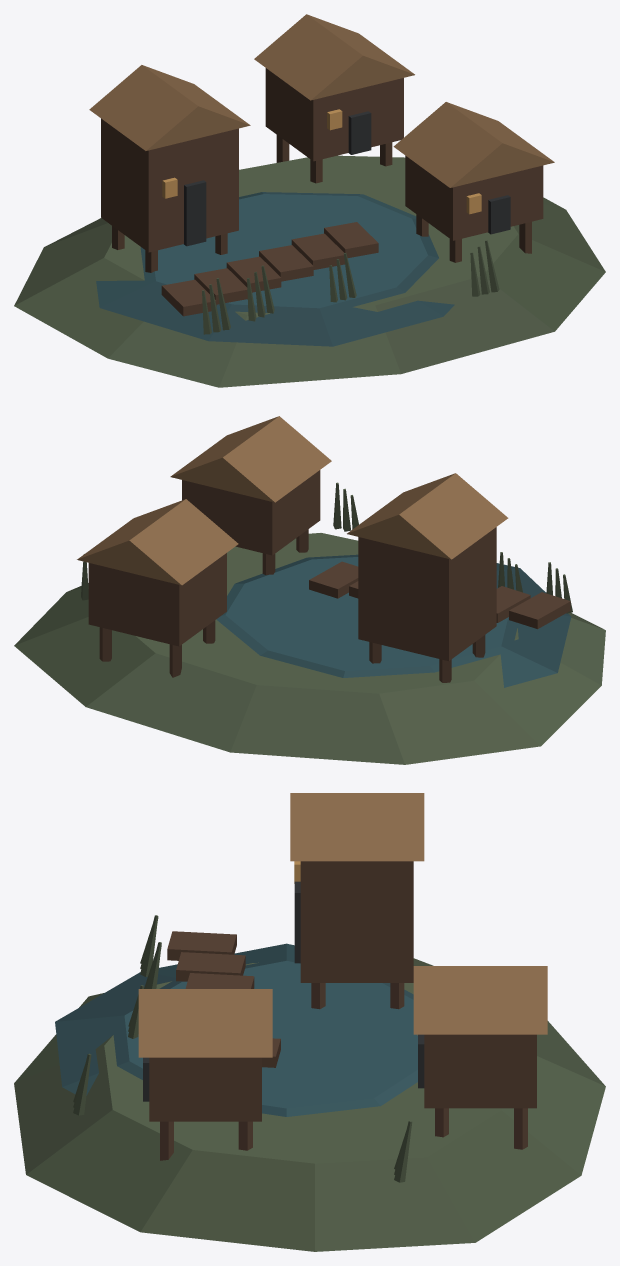
Rendered from berez.glb.
The picture shows the model from 3 angles, top to bottom: view 1: azimuth 30°, elevation 25°; view 2: azimuth 150°, elevation 25°; view 3: azimuth 270°, elevation 25°; orthographic projection. The views are drawn at different scales.
Visible parts, largest first — view 1: Berez · atlas landmark; view 2: Berez · atlas landmark; view 3: Berez · atlas landmark.
Part boxes in pixels (x1,y1,x2,y2): Berez · atlas landmark: (14,14,605,387); Berez · atlas landmark: (14,416,605,764); Berez · atlas landmark: (14,793,605,1251).
Bounding box in the file's own units: 1.99 × 0.813 × 1.68.
